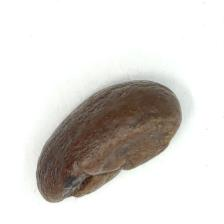NG: (51, 160, 137, 202)
